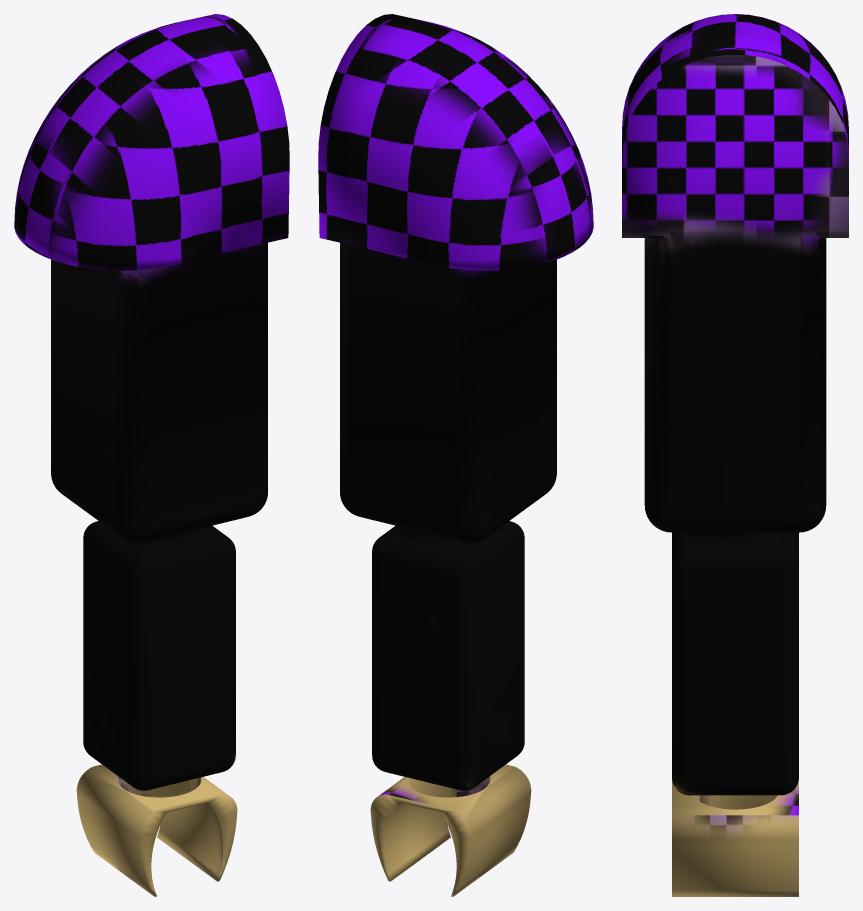
Rendered from HandSat.dae.
The picture shows the model from 3 angles, left to right: view 1: azimuth 30°, elevation 25°; view 2: azimuth 150°, elevation 25°; view 3: azimuth 270°, elevation 25°; orthographic projection. The views are drawn at different scales.
Parts seen in each view (by area): view 1: node_0c6a4f9b_2ae9_43e8_9b23_2a3a550157cd_mesh0; view 2: node_0c6a4f9b_2ae9_43e8_9b23_2a3a550157cd_mesh0; view 3: node_0c6a4f9b_2ae9_43e8_9b23_2a3a550157cd_mesh0.
Boxes of the visible parts, left/top/right/bottom form: node_0c6a4f9b_2ae9_43e8_9b23_2a3a550157cd_mesh0: left=14, top=14, right=289, bottom=896; node_0c6a4f9b_2ae9_43e8_9b23_2a3a550157cd_mesh0: left=318, top=14, right=593, bottom=896; node_0c6a4f9b_2ae9_43e8_9b23_2a3a550157cd_mesh0: left=622, top=14, right=848, bottom=896.
Bounding box in the file's own units: 0.2789 × 0.25 × 1.06.
1 material, 1 textured.
